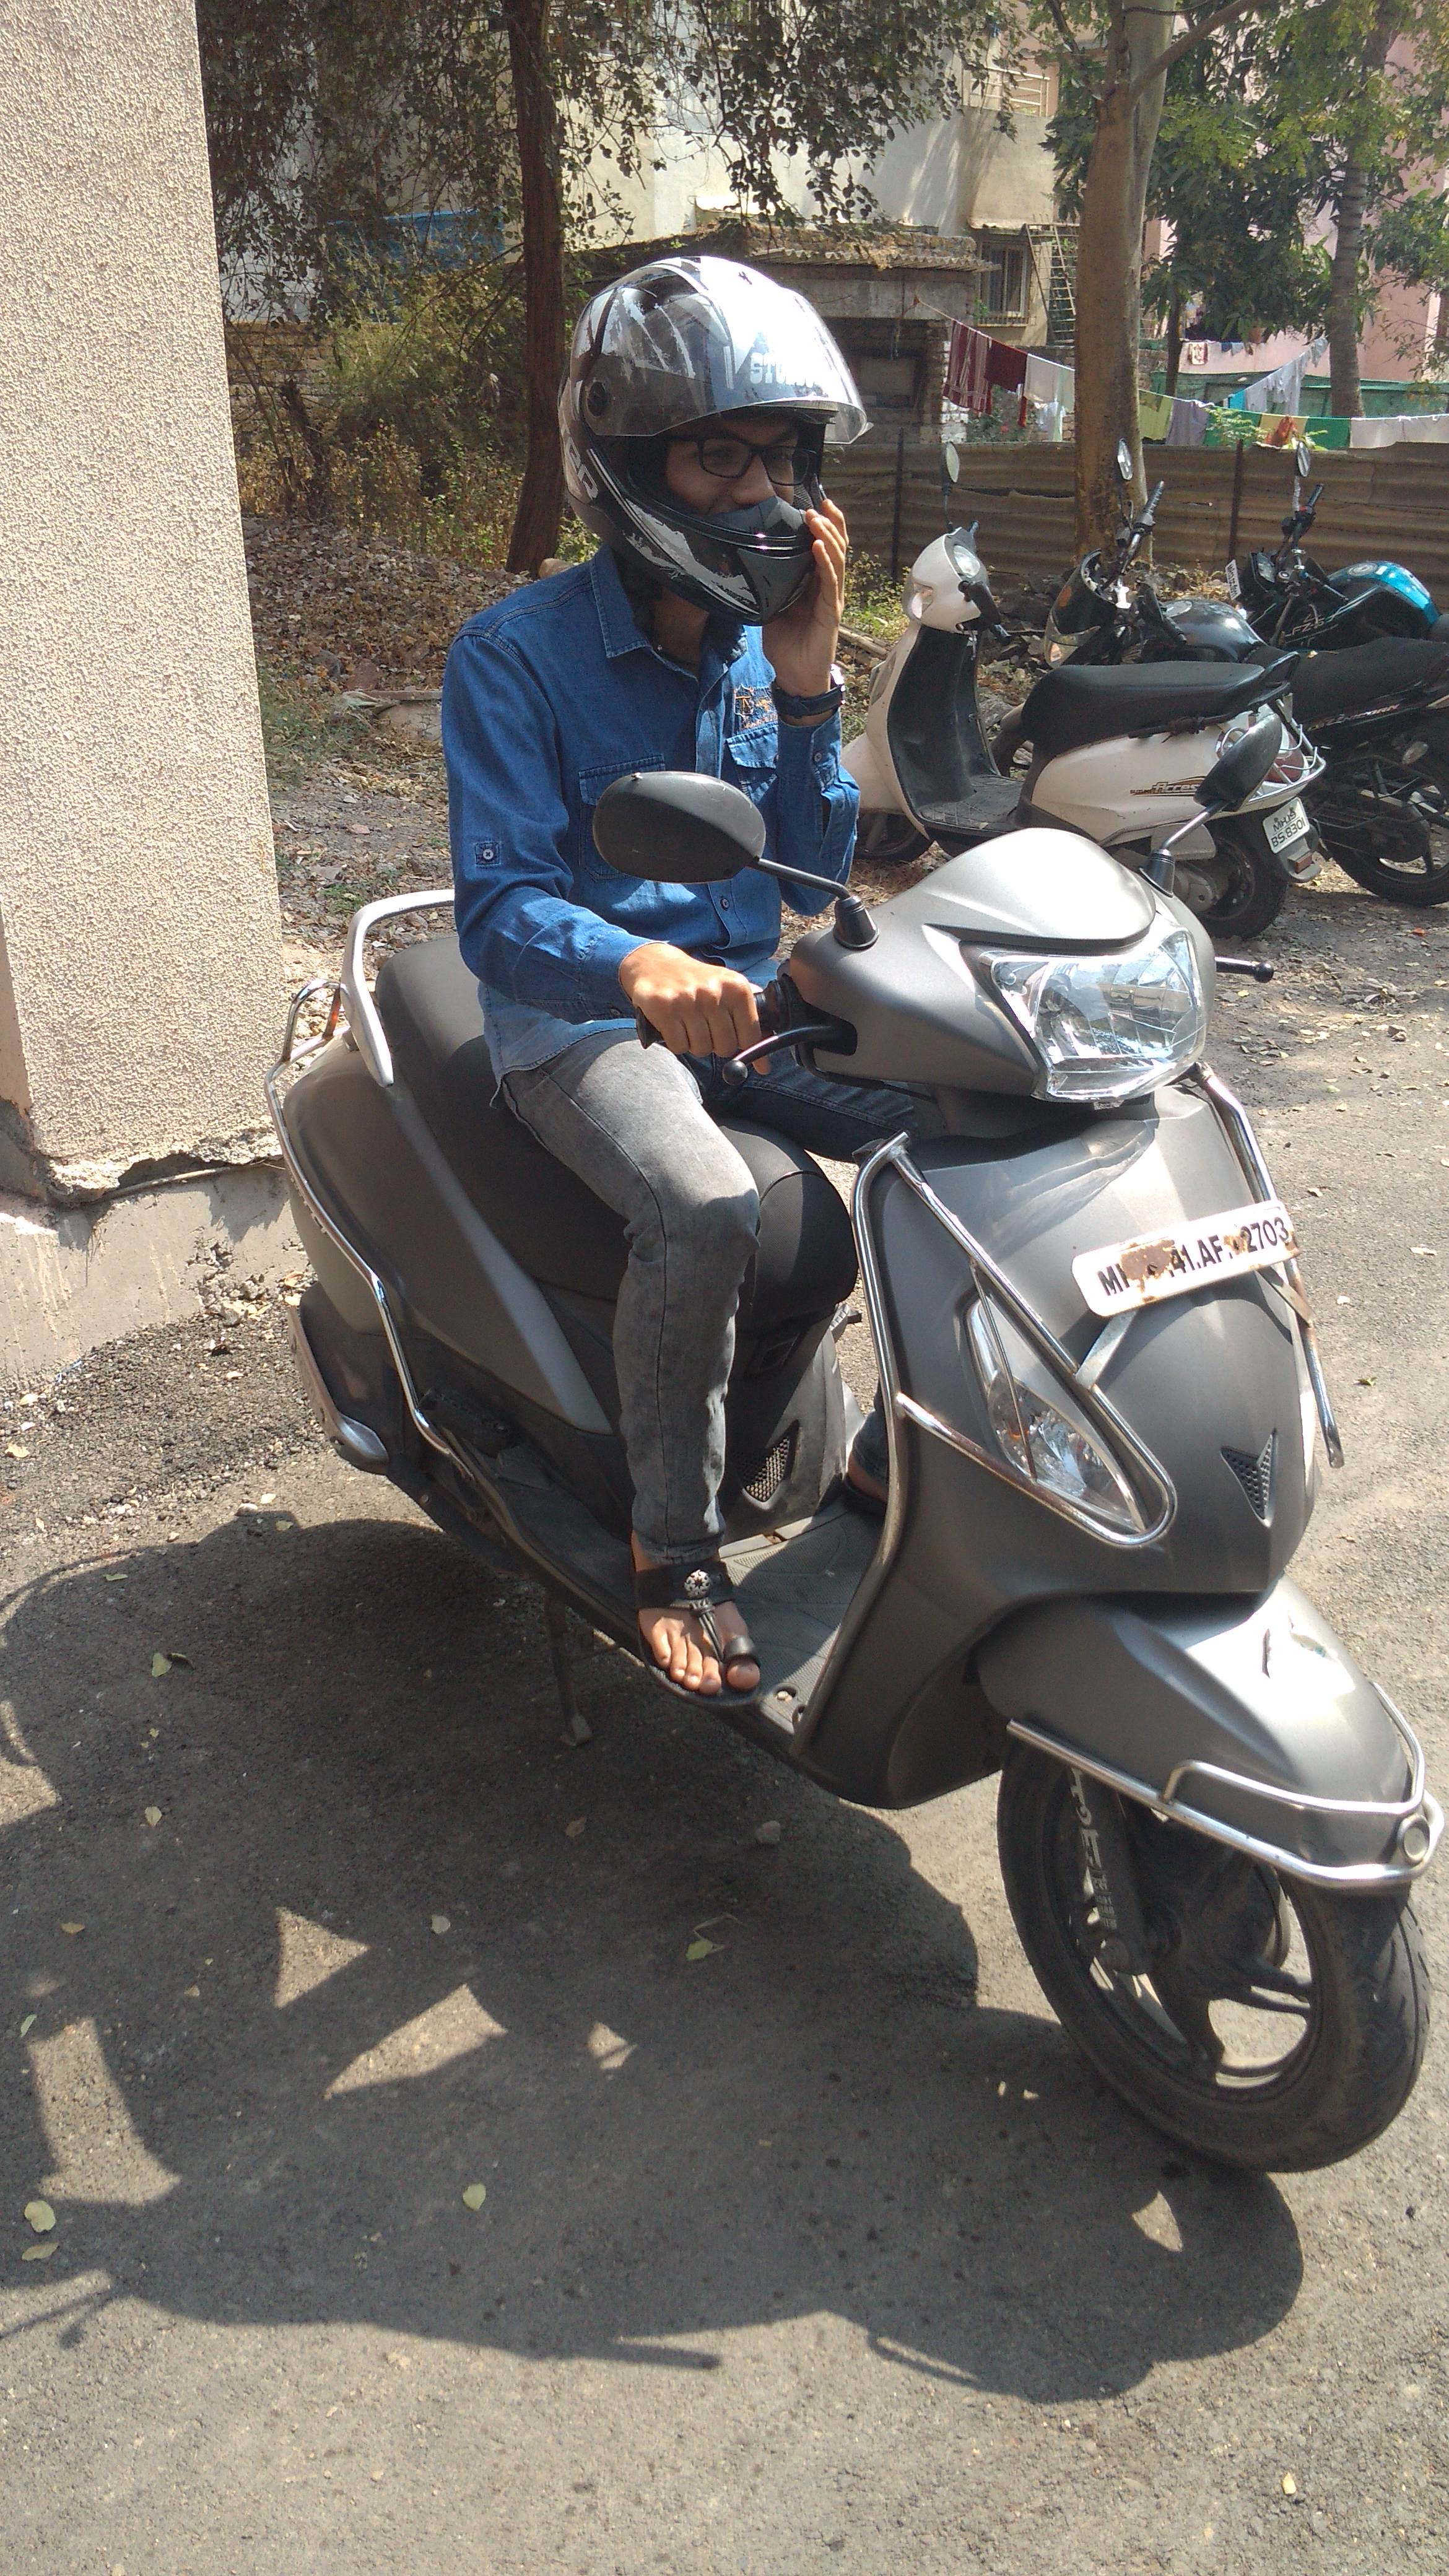helmet: (389, 235, 1079, 1196)
